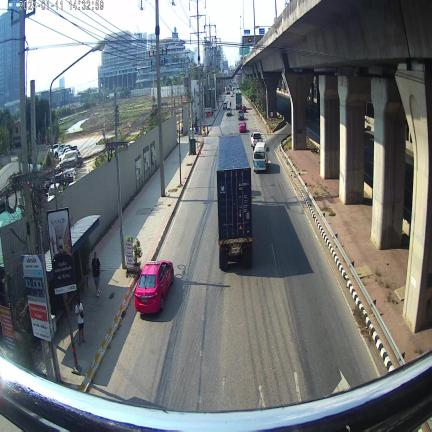car: (238, 110, 244, 120), (222, 102, 227, 109), (242, 106, 246, 113)
pickup: (251, 132, 262, 148), (226, 107, 232, 116)
taxi: (135, 260, 174, 313), (239, 121, 246, 132)
truck: (217, 135, 252, 271), (235, 91, 242, 110)
van: (253, 142, 269, 172)
